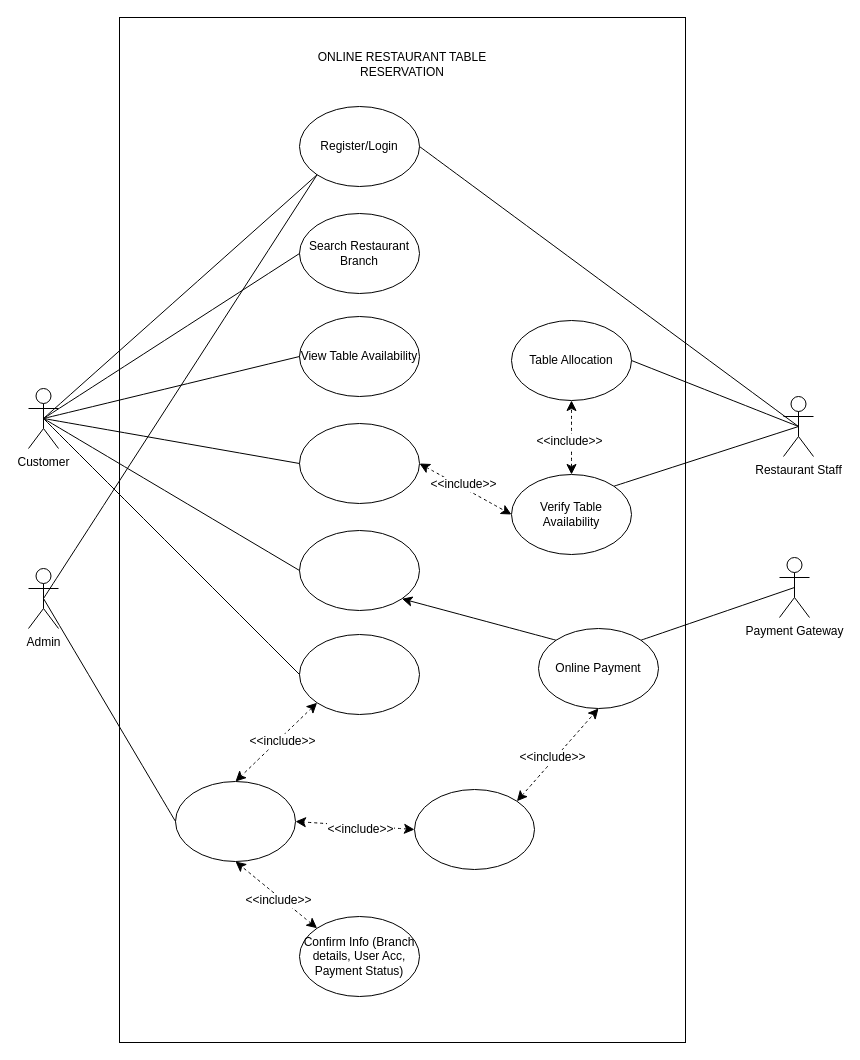
The diagram is 860 pixels wide and 1060 high, and some of its shapes have lost their labels. The shapes that lost their labels are listed below. From the top down, each one's centre as x and y in pixels, then its label:
(359,463): Book Table/Make Reservation
(359,570): Make Payment
(359,674): Cancel Booking
(235,821): Approve/Reject Booking
(474,829): Confirmation of Payment
